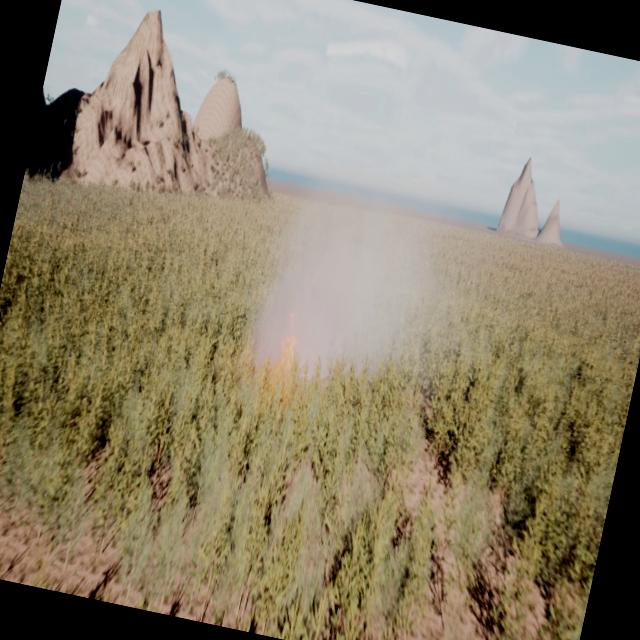fire: (272, 304, 312, 368)
smoke: (239, 119, 470, 418)
